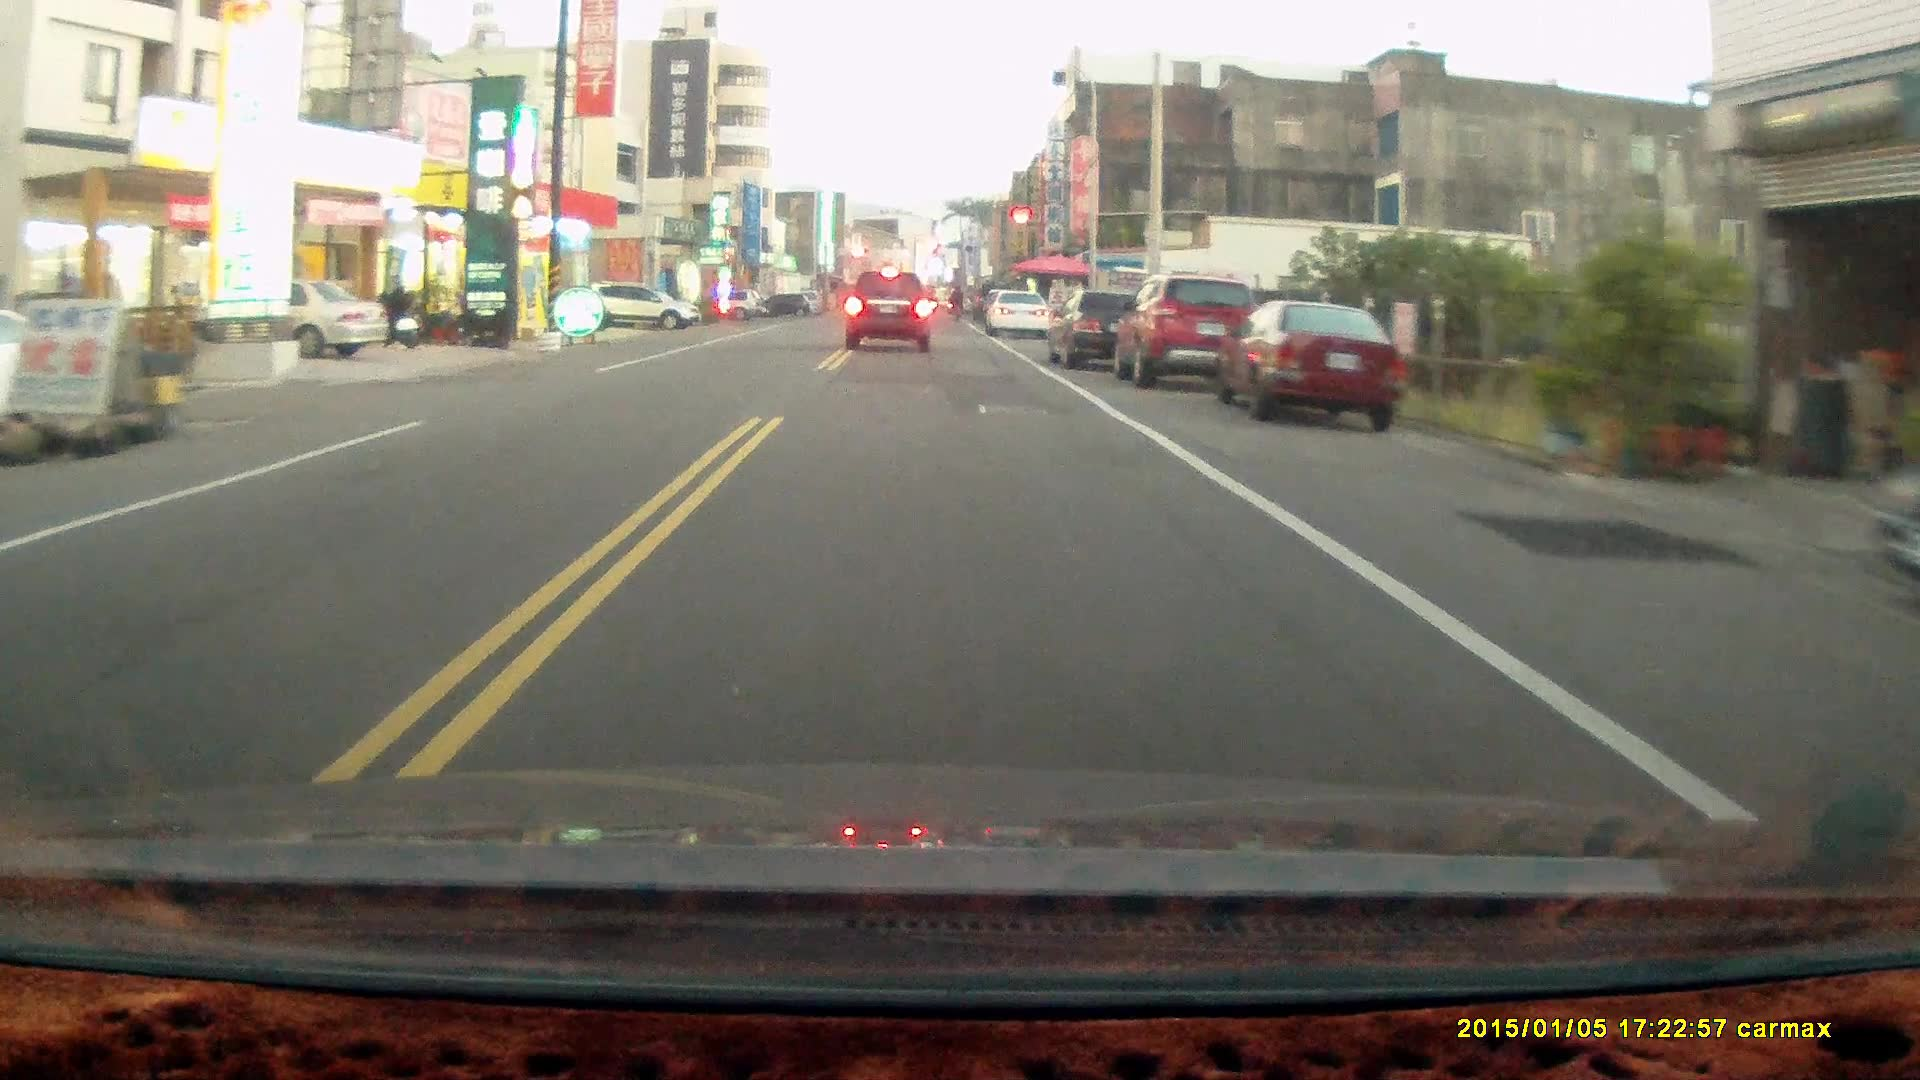vehicle: (1212, 299, 1412, 429), (1116, 276, 1266, 390), (191, 280, 390, 363), (1047, 291, 1167, 371), (844, 272, 935, 353), (589, 281, 698, 328), (985, 290, 1054, 342)
